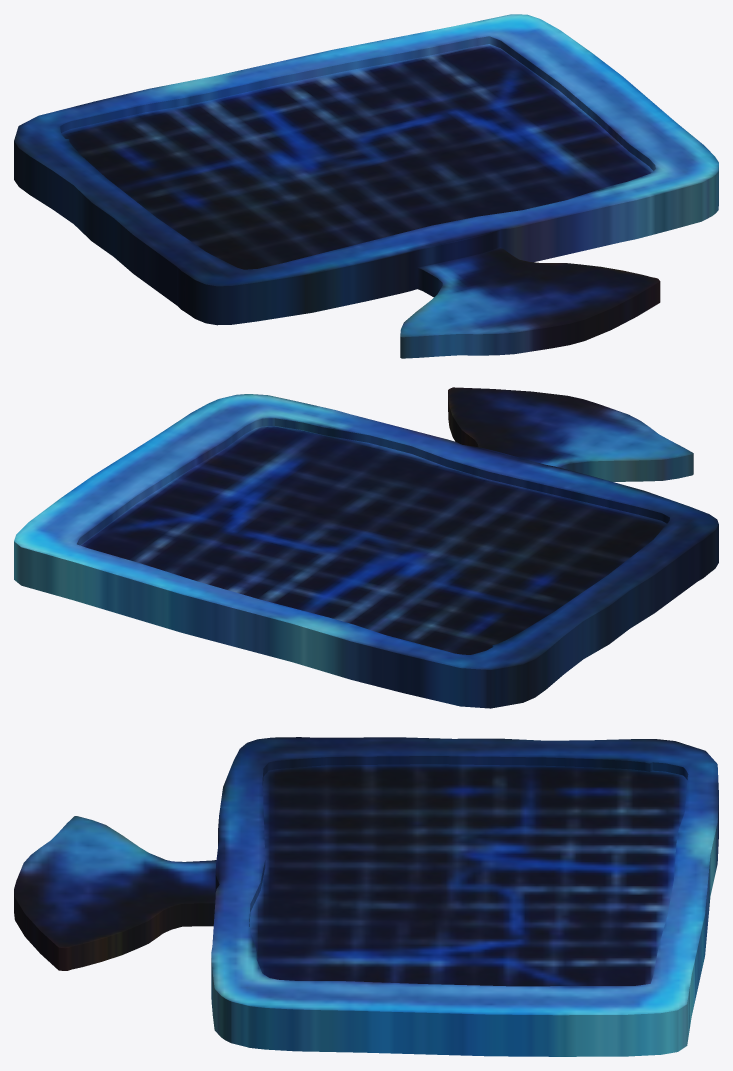
The model's file is mural medicina central 1.dae.
3 renders of one model, top to bottom at view 1: azimuth 30°, elevation 25°; view 2: azimuth 150°, elevation 25°; view 3: azimuth 270°, elevation 25°, orthographic. The views are drawn at different scales.
Parts seen in each view (by area): view 1: SketchUp (×2); view 2: SketchUp (×2); view 3: SketchUp (×2).
Part boxes in pixels (x1,y1,x2,y2): SketchUp (×2): (14,14,718,358); SketchUp (×2): (14,387,718,708); SketchUp (×2): (14,737,718,1056).
Size of the model in its own units: 17.88 by 19.15 by 1.25.
1 material, 1 textured.
